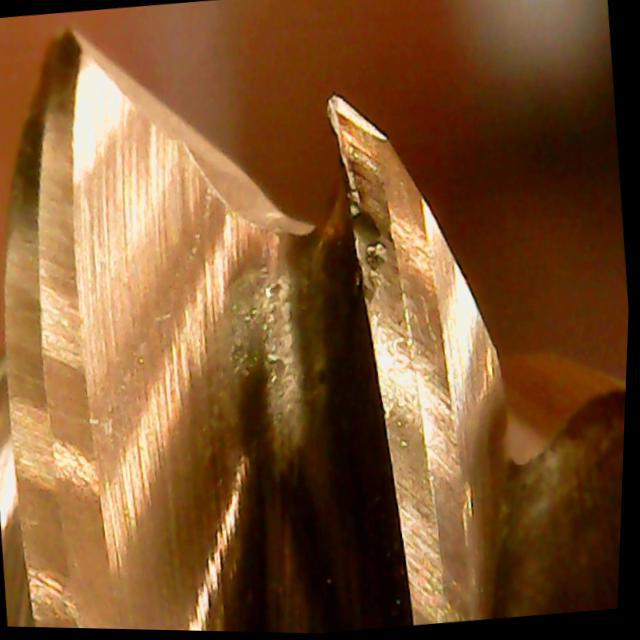Tool-wear-class-1: (290, 74, 501, 413)
